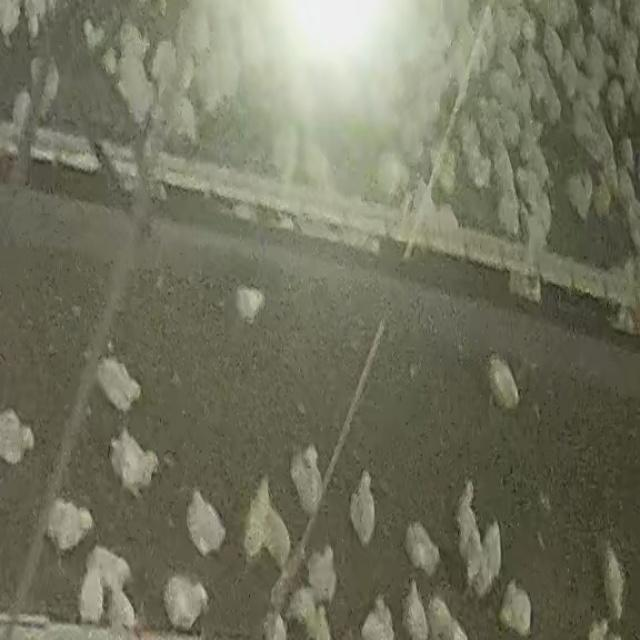chicken: (108, 427, 164, 503), (182, 488, 228, 558), (162, 572, 209, 632), (46, 496, 94, 554), (94, 356, 142, 414), (288, 442, 325, 515), (347, 468, 379, 550), (600, 540, 627, 622), (404, 520, 442, 578), (305, 543, 339, 606), (0, 406, 35, 466), (486, 354, 522, 411), (498, 580, 534, 636), (479, 520, 503, 594), (400, 583, 431, 638), (565, 170, 595, 225), (234, 285, 266, 324)
